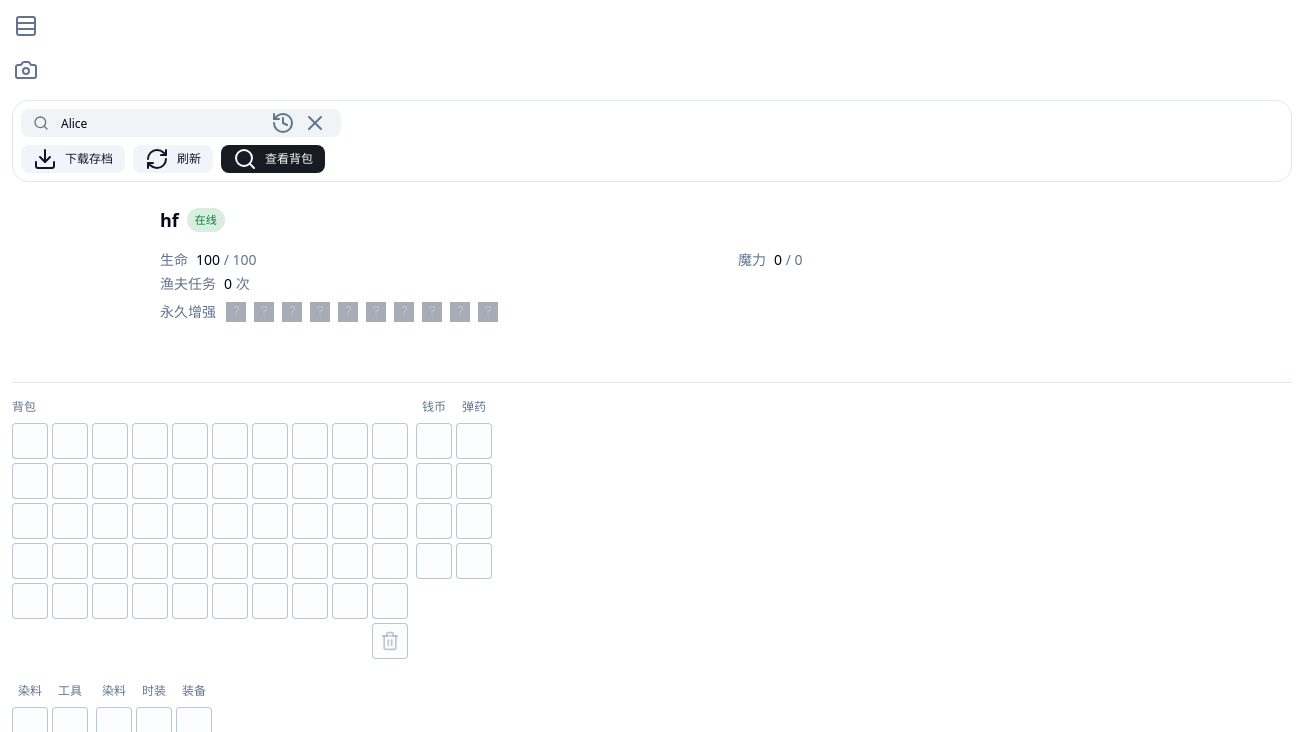
PlayerManagerPage › 银行 / 配装分组可折叠（aria-expanded 切换）
Replace the text in the field with placeholder "输入玩家名（支持离线）" with "hf" at (155, 123), box [49,109,261,137]
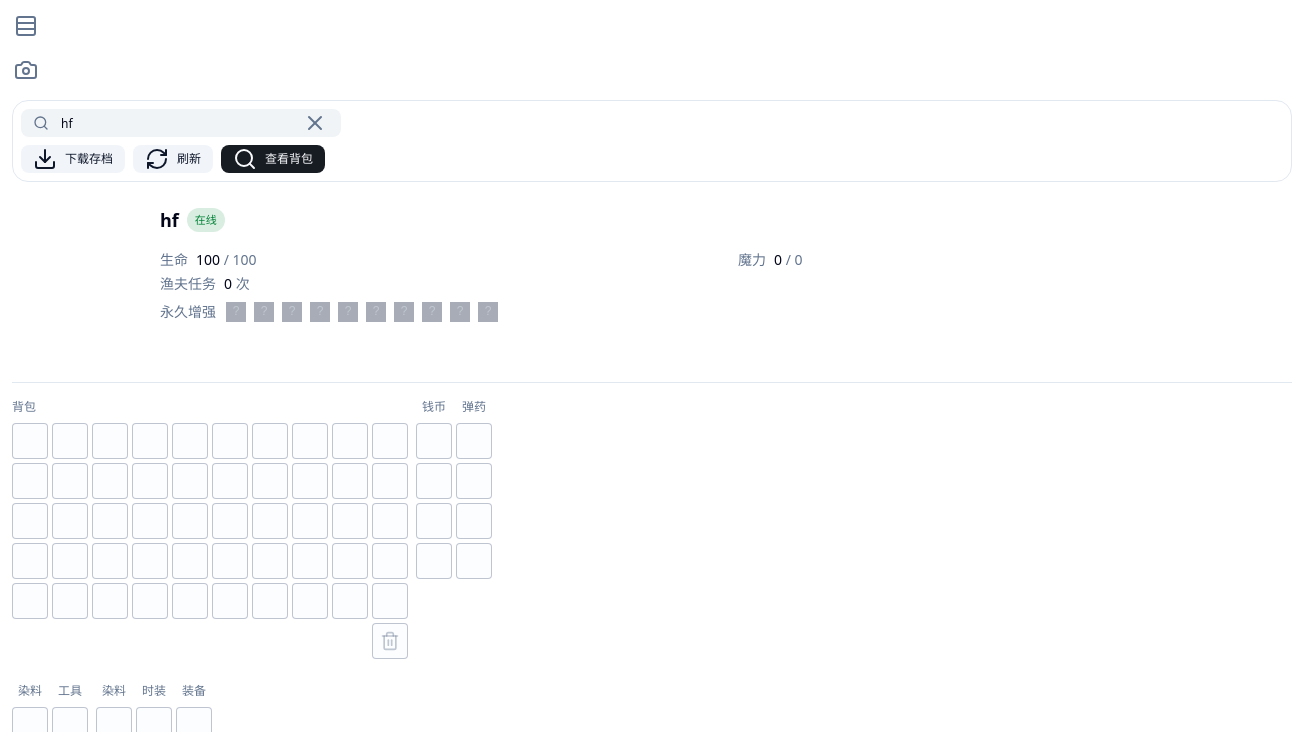
Press Enter in the field with placeholder "输入玩家名（支持离线）", box [49,109,293,137]
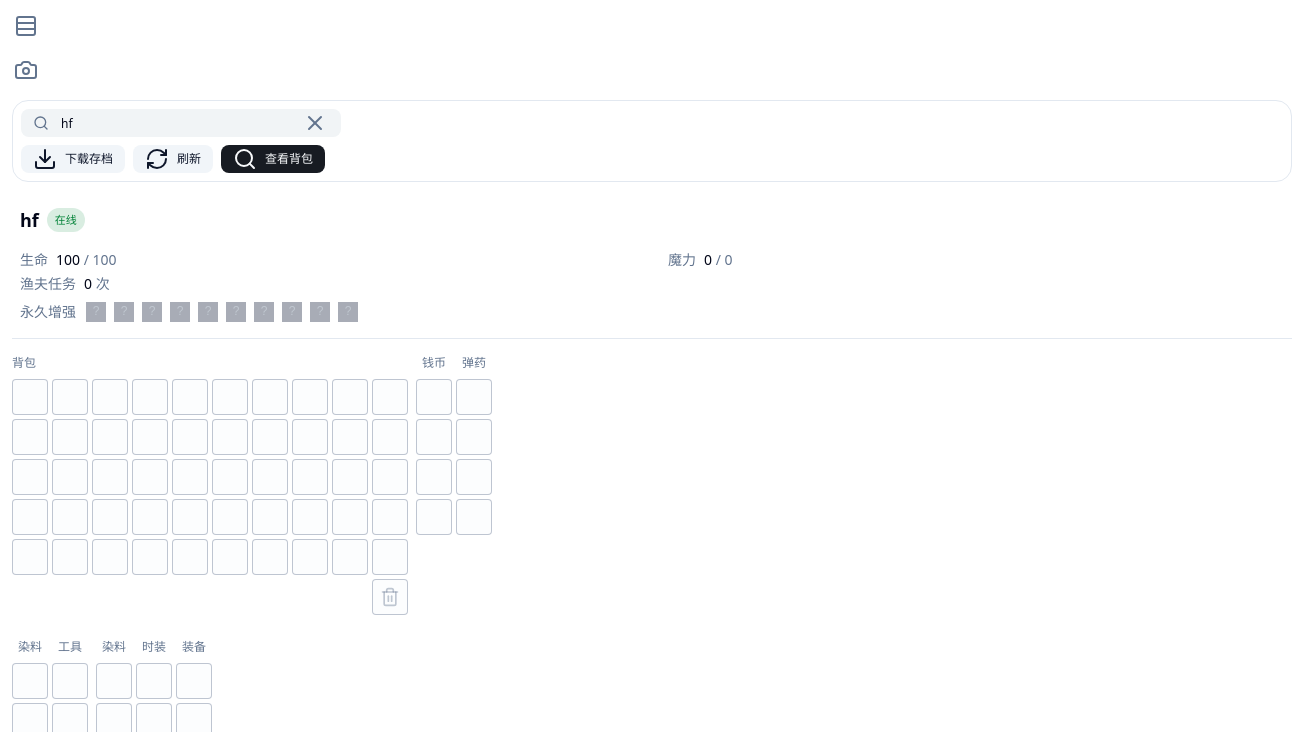
关闭简约视图才能看到银行 / 配装
Click the button named "简约视图".
click(26, 26)  # box [12,12,40,40]
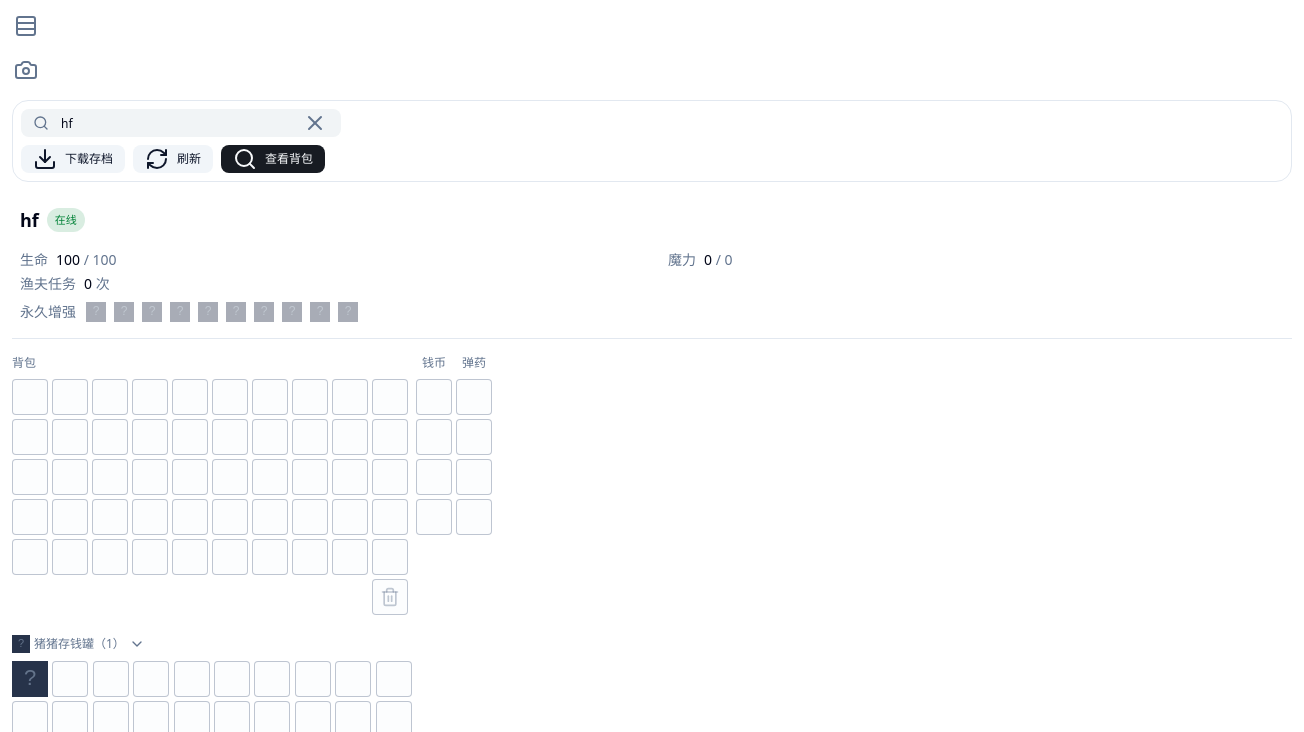
Click the button "猪猪存钱罐（1）".
click(79, 644)  # box [12,635,1292,653]
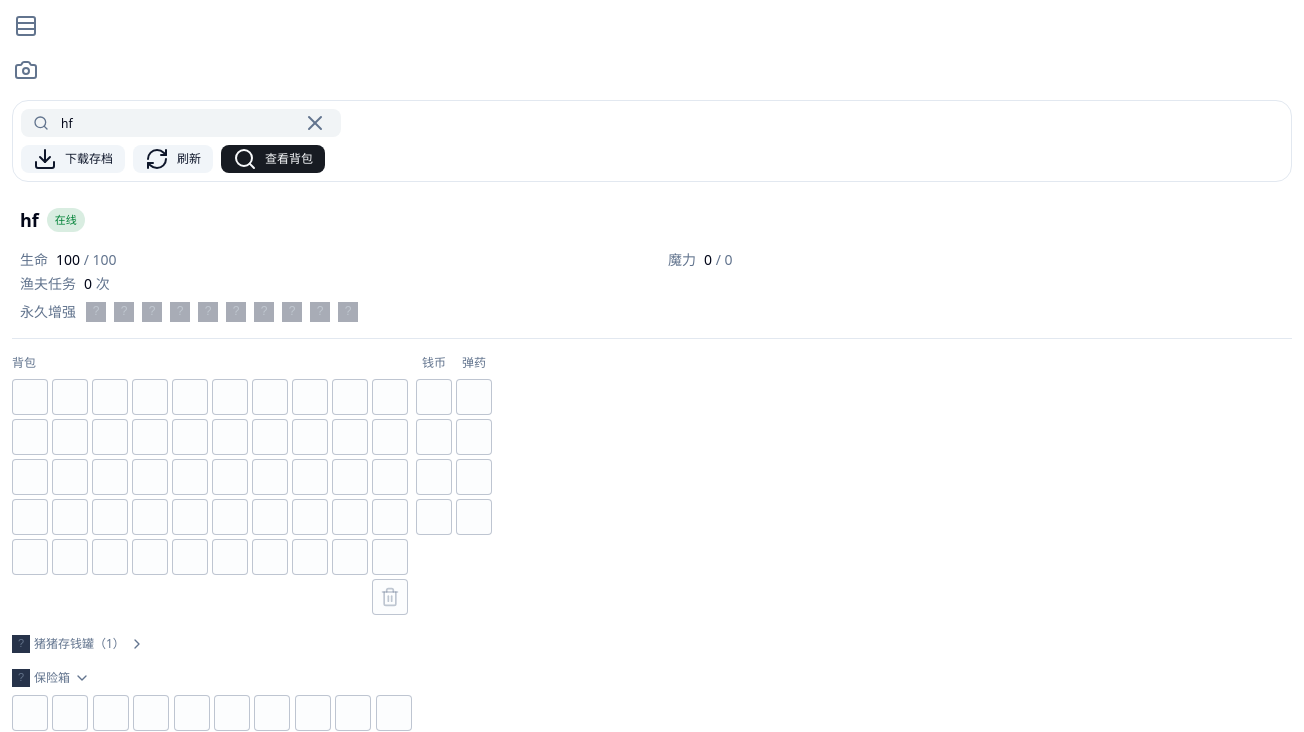
Now the button "猪猪存钱罐（1）" is collapsed, box [12,635,1292,653]
